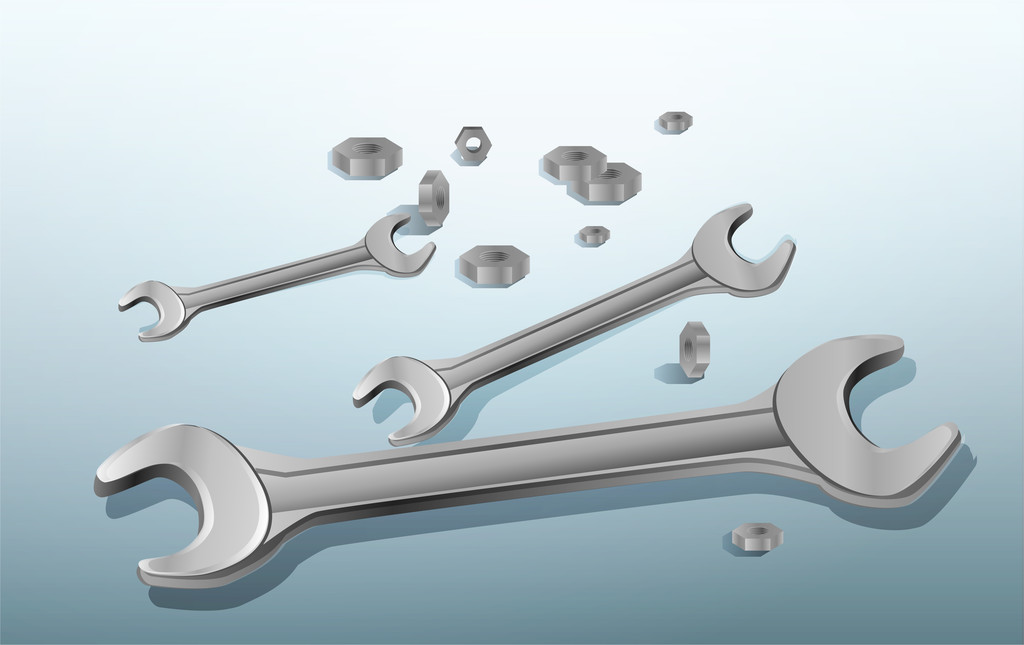Job: (80, 308, 993, 645), (332, 190, 812, 456), (112, 199, 447, 343)
